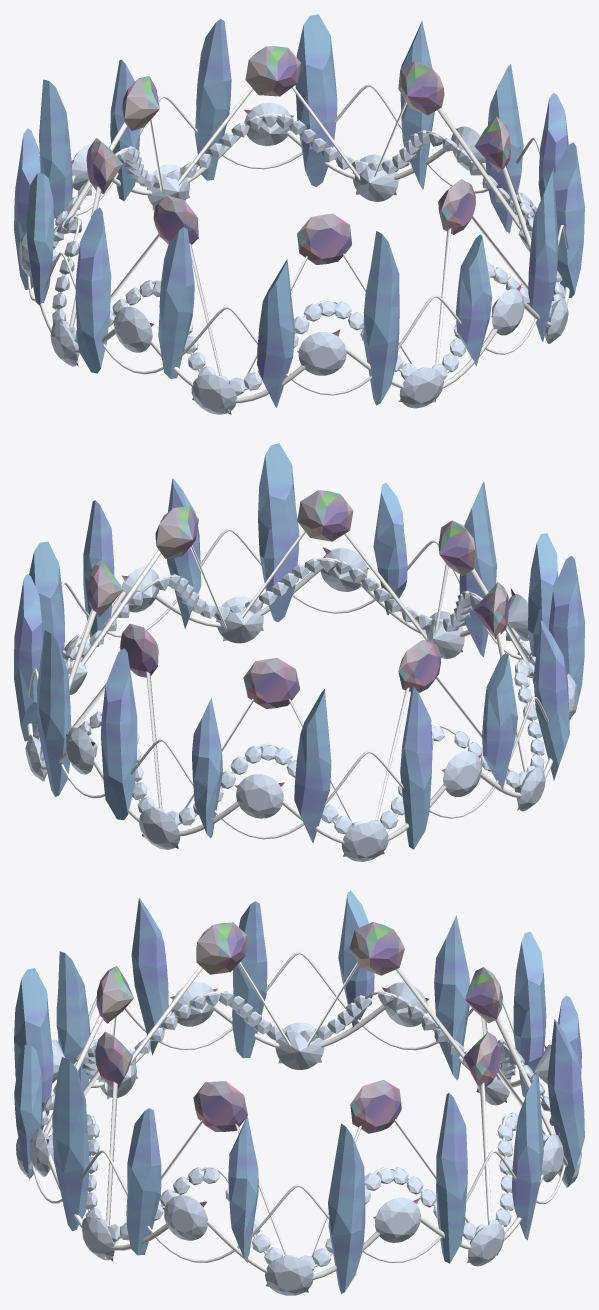
Rendered from crown.glb.
3 views of the same model, one above another, from view 1: azimuth 30°, elevation 25°; view 2: azimuth 150°, elevation 25°; view 3: azimuth 270°, elevation 25° (orthographic).
Visible parts, largest first — view 1: Star; view 2: Star; view 3: Star.
Boxes of the visible parts, x1,y1,x2,y2 form: Star: (14, 14, 584, 414); Star: (14, 443, 584, 861); Star: (14, 890, 584, 1295).
Size of what is drawn, in the model's own units: 1.71 by 0.6395 by 1.71.
Materials: 4 (2 with a texture image).
